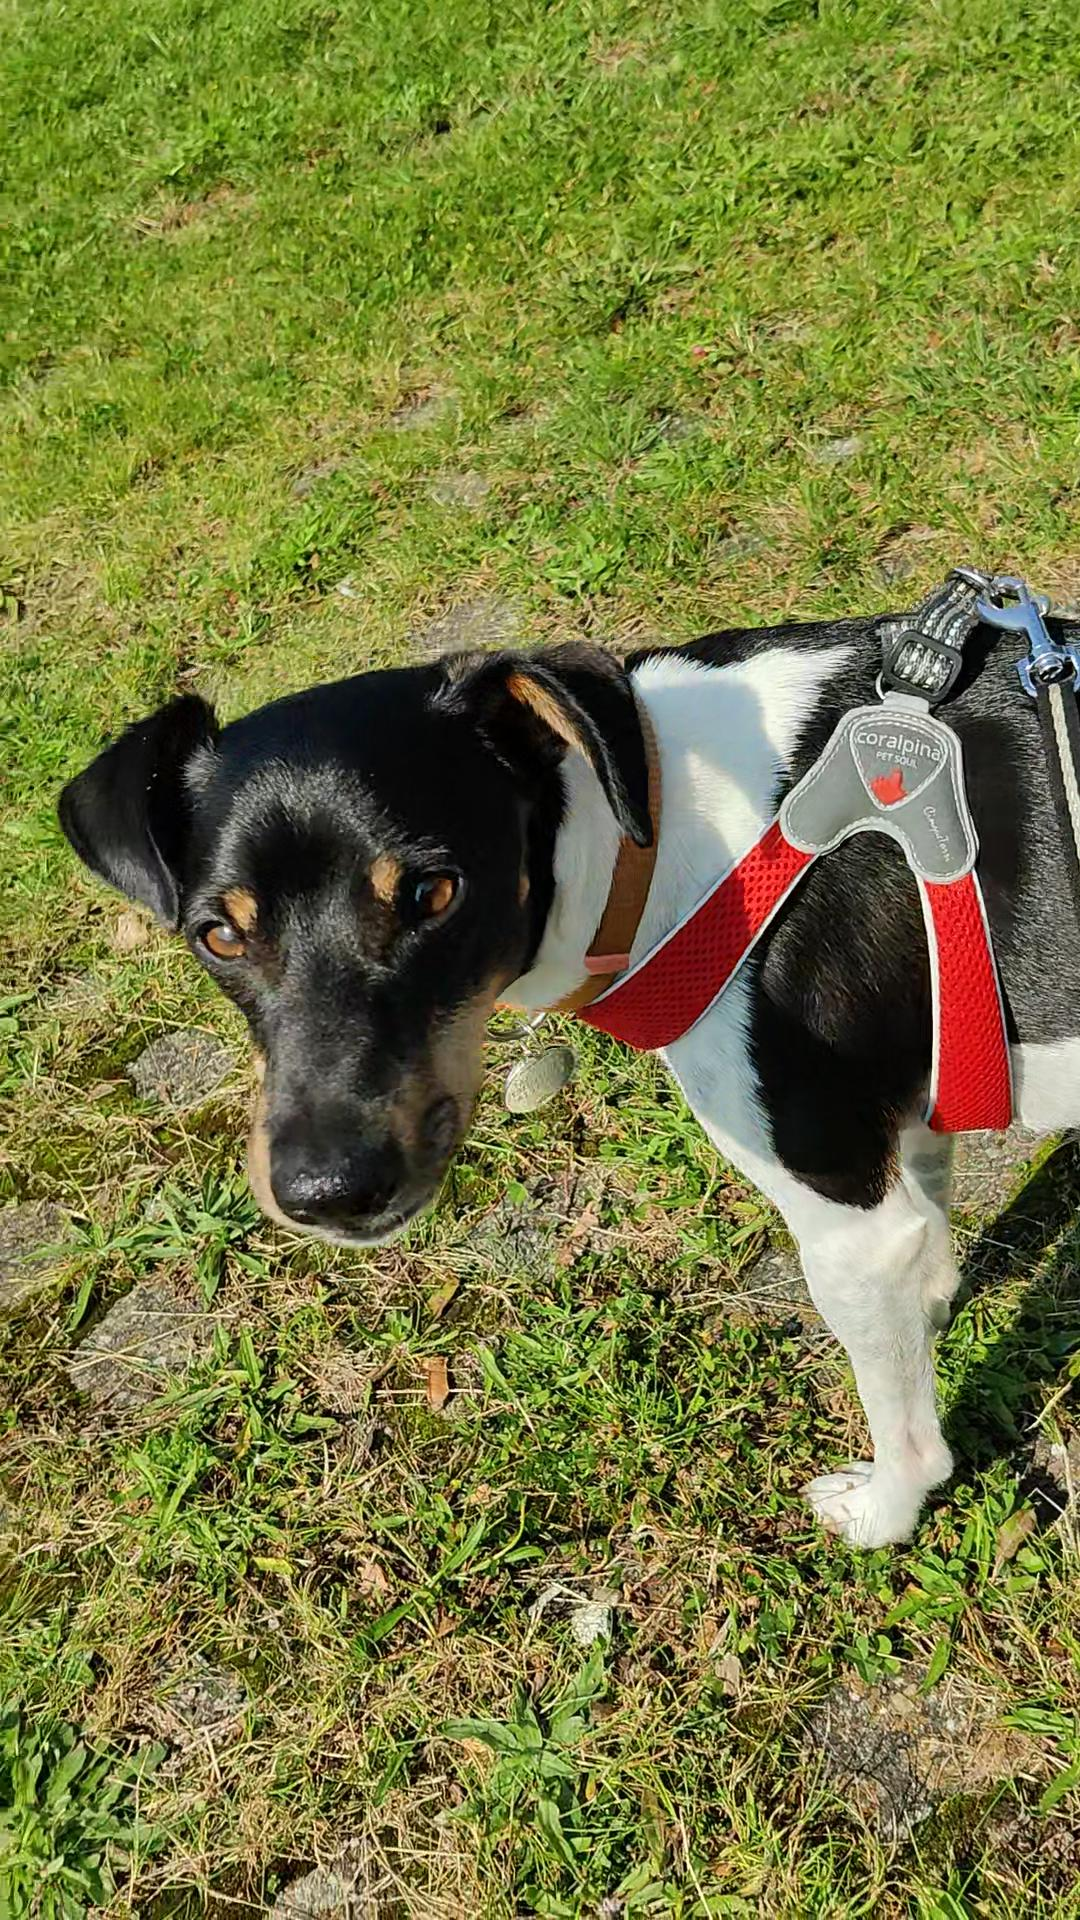Dog: (41, 545, 1079, 1559)
